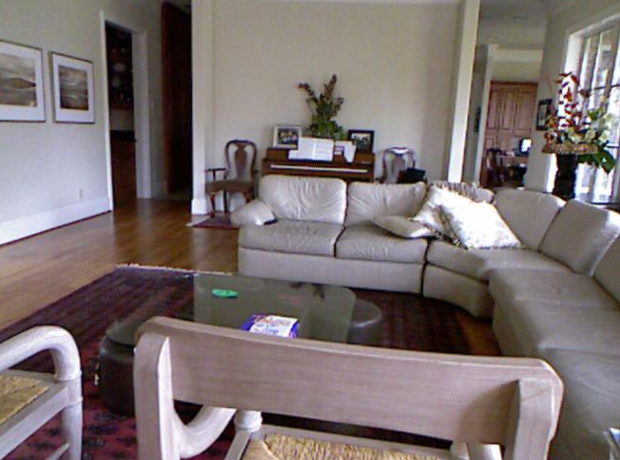chair: (132, 316, 552, 459), (0, 327, 86, 460), (205, 137, 253, 202)
couch: (260, 176, 431, 281), (562, 220, 620, 434)
openedDoor: (99, 13, 150, 201)
window: (576, 32, 612, 201)
